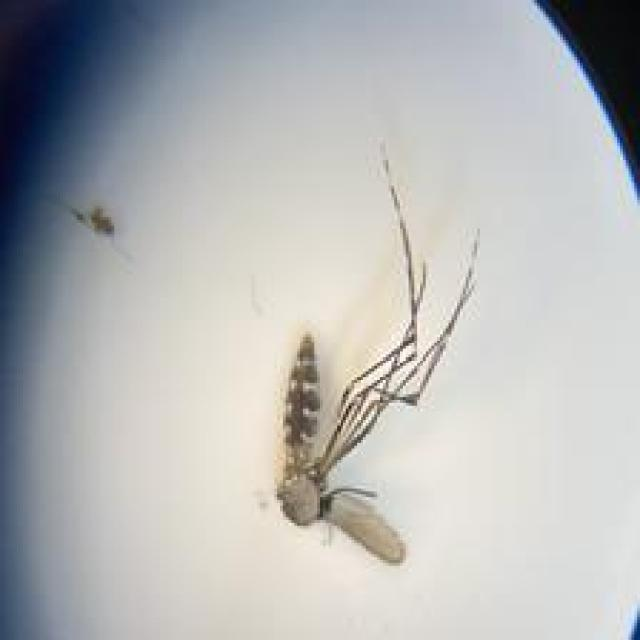Aedes albopictus: (269, 139, 480, 564)
